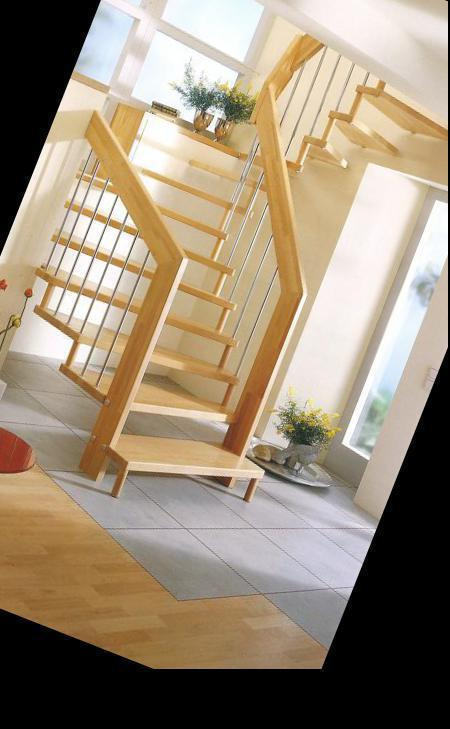Escaleras: (0, 0, 433, 533)
